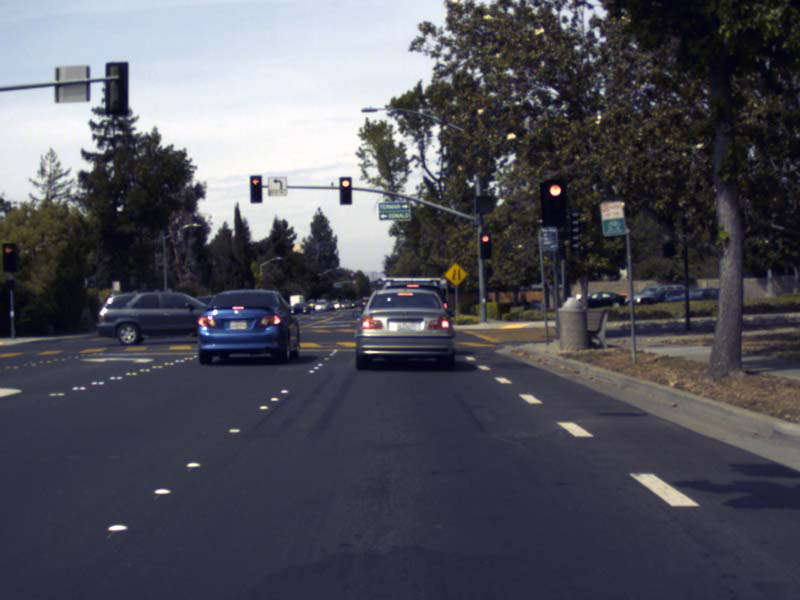Red: (539, 180, 565, 226), (1, 243, 16, 271), (478, 232, 491, 259), (339, 177, 352, 204), (250, 175, 262, 203)
